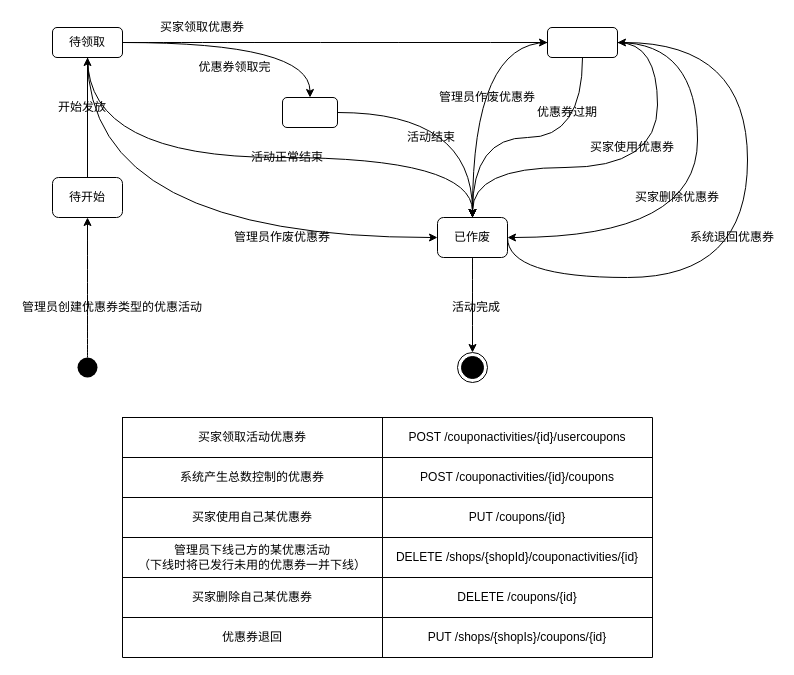
Some shapes in this 794 by 675 pixel diagram are drawn without their labels. The centre of each missing label's shape, as x and y in pixels:
"发放完毕" belongs at pixel 310 112.
"已领取" belongs at pixel 582 42.
